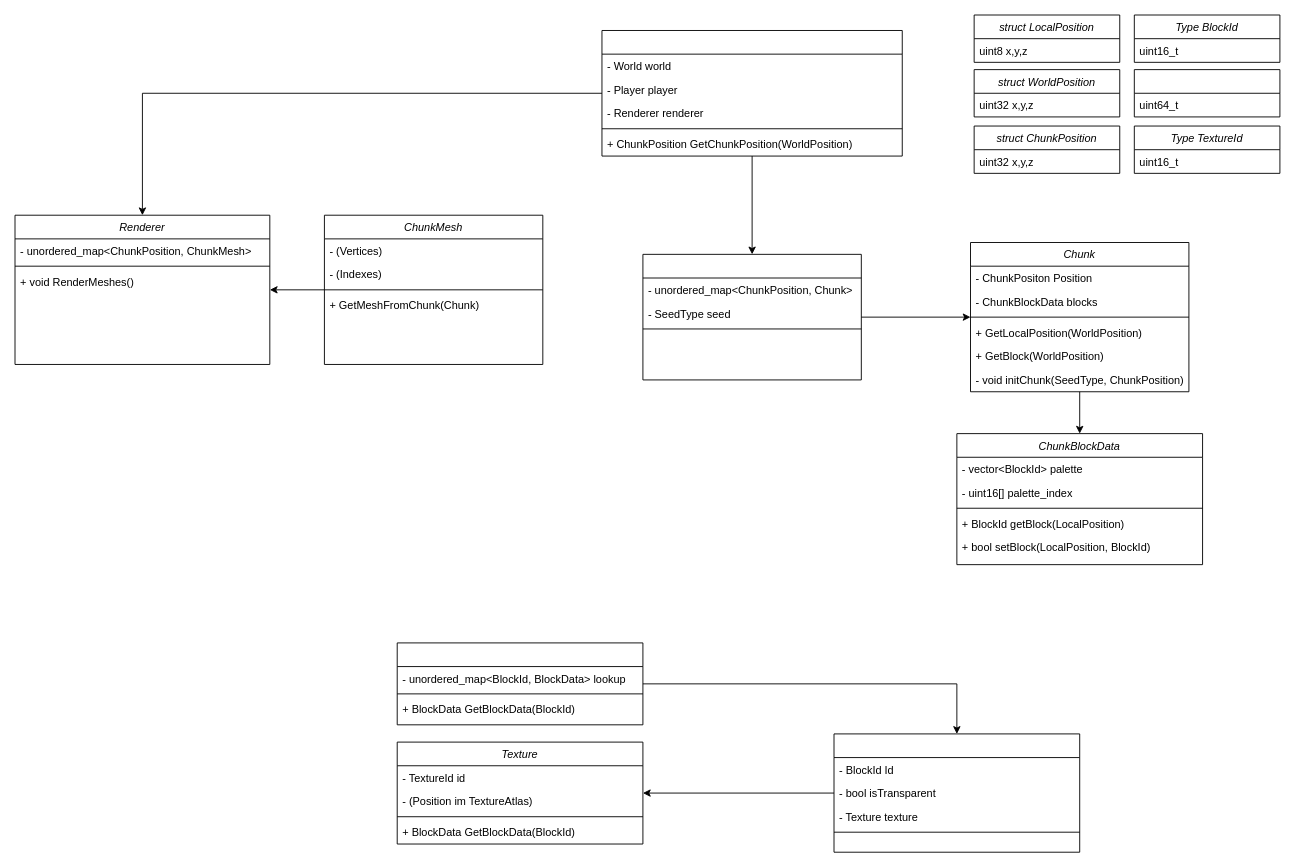
This 1295x867 diagram has some shape labels left out. The box of each missing label's shape, as (x1, y1, x2, y2) in pixels:
BlockData: (833, 733, 1080, 852)
BlockRegistry: (396, 642, 643, 725)
Game: (601, 30, 902, 156)
Type SeedType: (1133, 69, 1280, 117)
World: (642, 253, 861, 380)
